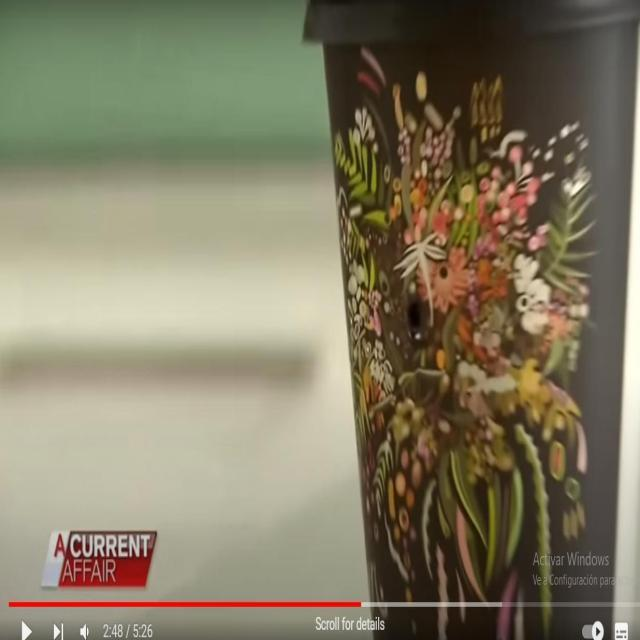hidden camera: (401, 280, 430, 343)
